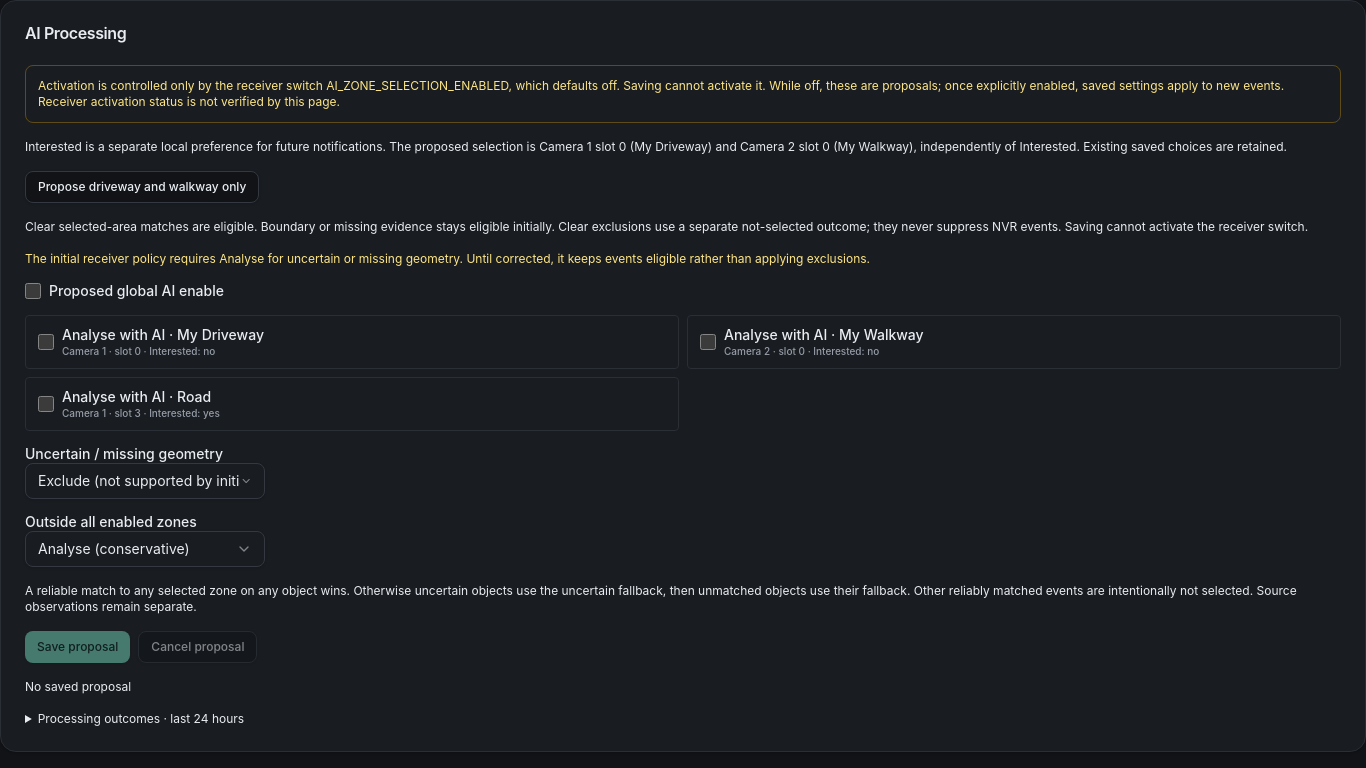
Scenario: offers an explicit editable driveway/walkway-only proposal without following notification interest or saving automatically
The image size is (1366, 768).
Click the button "Propose driveway and walkway only".
click(142, 187)  # box [25,171,259,203]
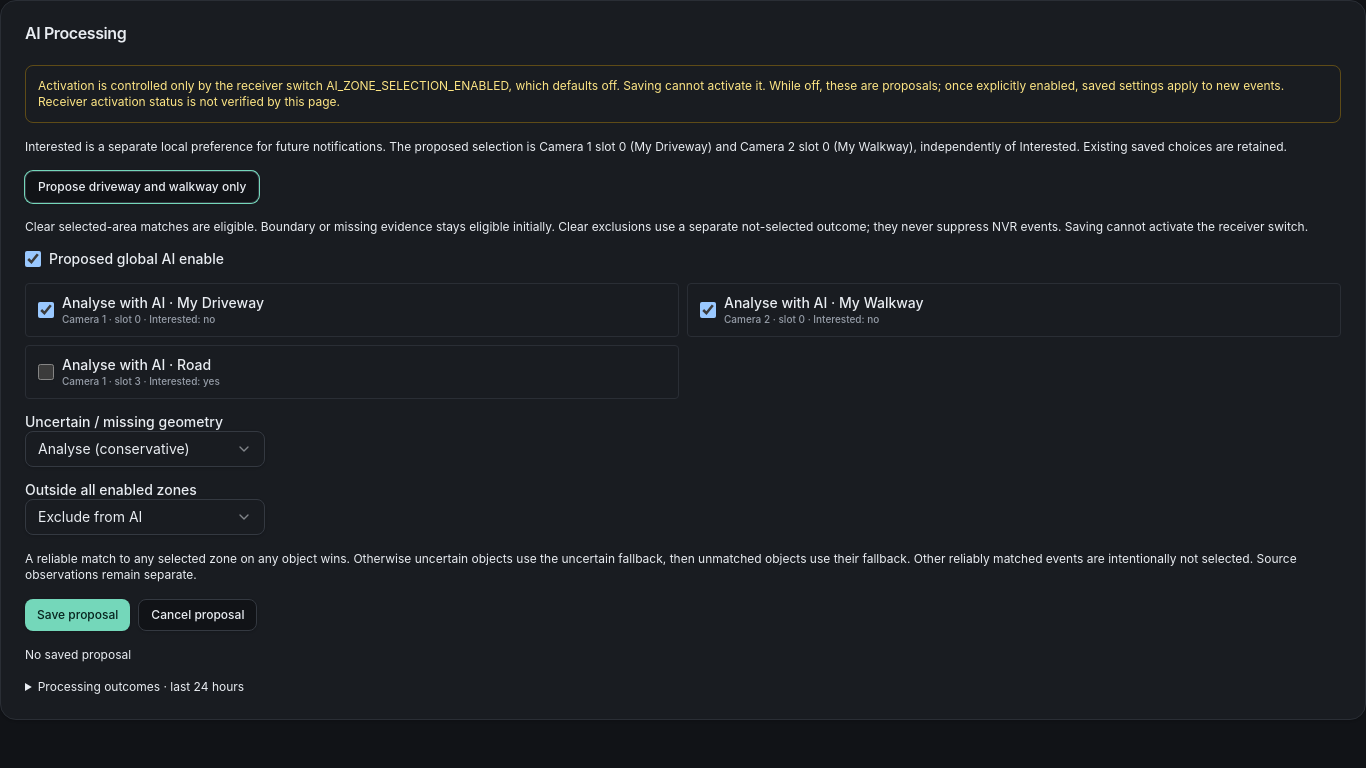
Expected: the checkbox labelled "Analyse with AI · Road Camera 1 · slot 3 · Interested: yes" is not checked, [38,364,54,380]
Result: the checkbox labelled "Analyse with AI · My Driveway" is checked at [38,302,54,318]
Click the button "Cancel proposal".
click(198, 615)  # box [138,599,257,631]
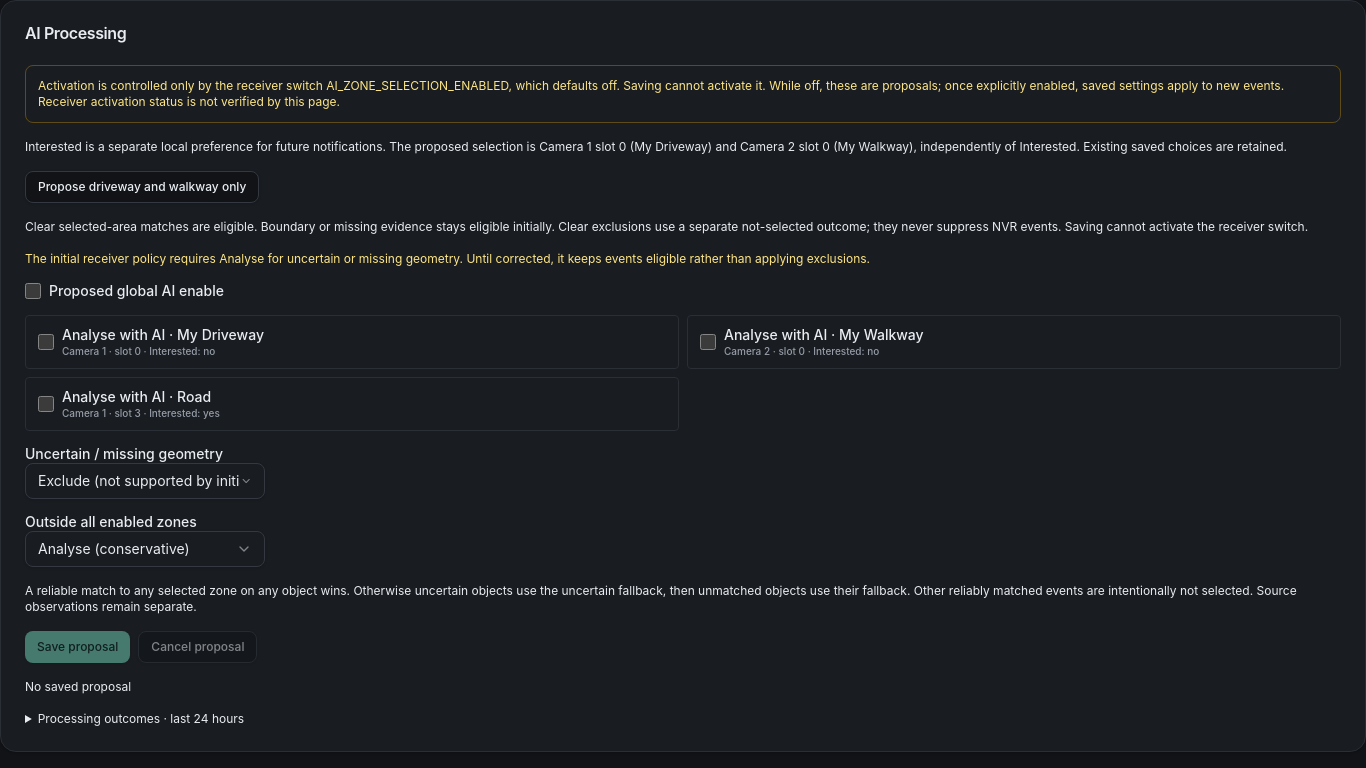
Result: the checkbox labelled "Analyse with AI · My Driveway" is not checked at [38,334,54,350]
